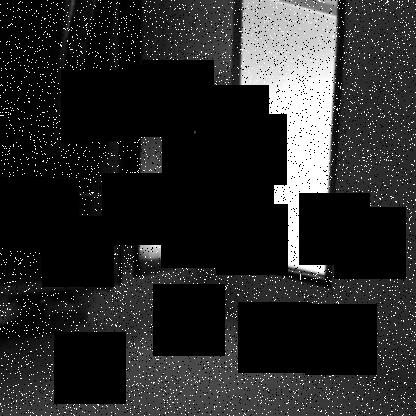Porte: (131, 0, 347, 291)
